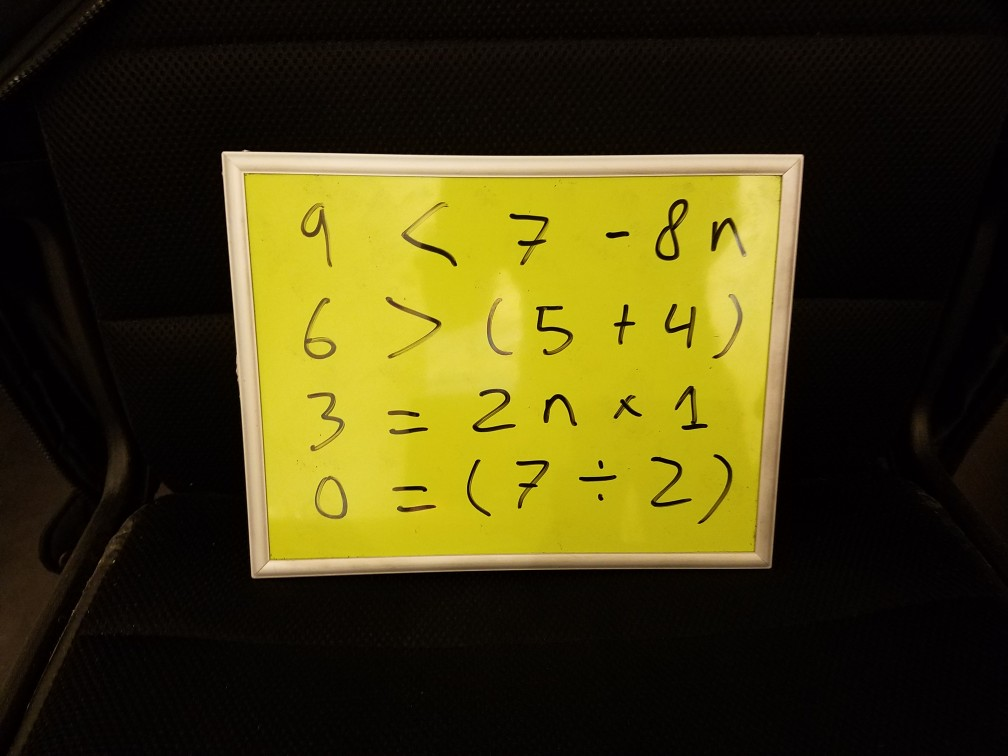(: (479, 292, 516, 364), (459, 454, 495, 527)
): (698, 448, 738, 526), (710, 287, 746, 365)
+: (605, 298, 639, 348)
-: (600, 221, 633, 247)
0: (307, 473, 354, 524)
1: (668, 379, 713, 435)
2: (645, 450, 698, 513), (468, 381, 518, 438)
3: (301, 386, 348, 454)
4: (659, 294, 701, 354)
5: (533, 300, 575, 363)
6: (300, 291, 344, 370)
7: (504, 205, 550, 269), (507, 450, 552, 515)
8: (650, 192, 691, 269)
9: (297, 197, 338, 270)
<: (393, 194, 462, 270)
=: (386, 469, 441, 518), (380, 401, 436, 445)
>: (376, 287, 453, 364)
div: (573, 451, 620, 509)
n: (707, 207, 748, 259), (536, 389, 582, 432)
x: (607, 385, 646, 426)
